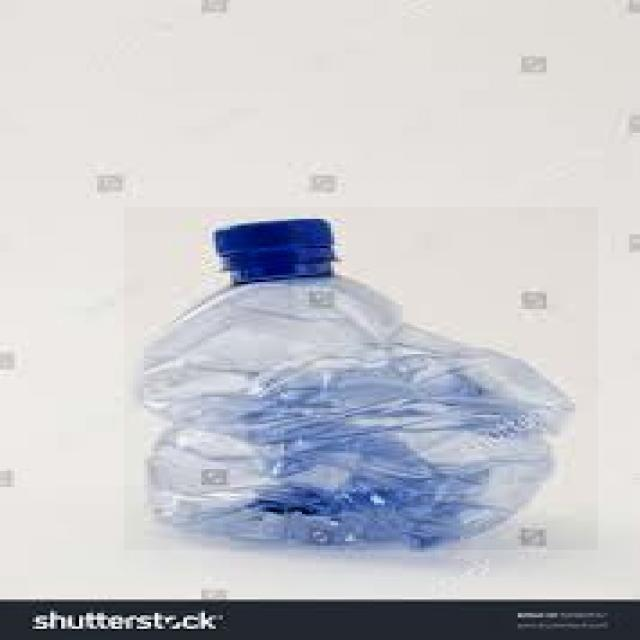BIODEGRADABLE: (124, 208, 598, 552)
